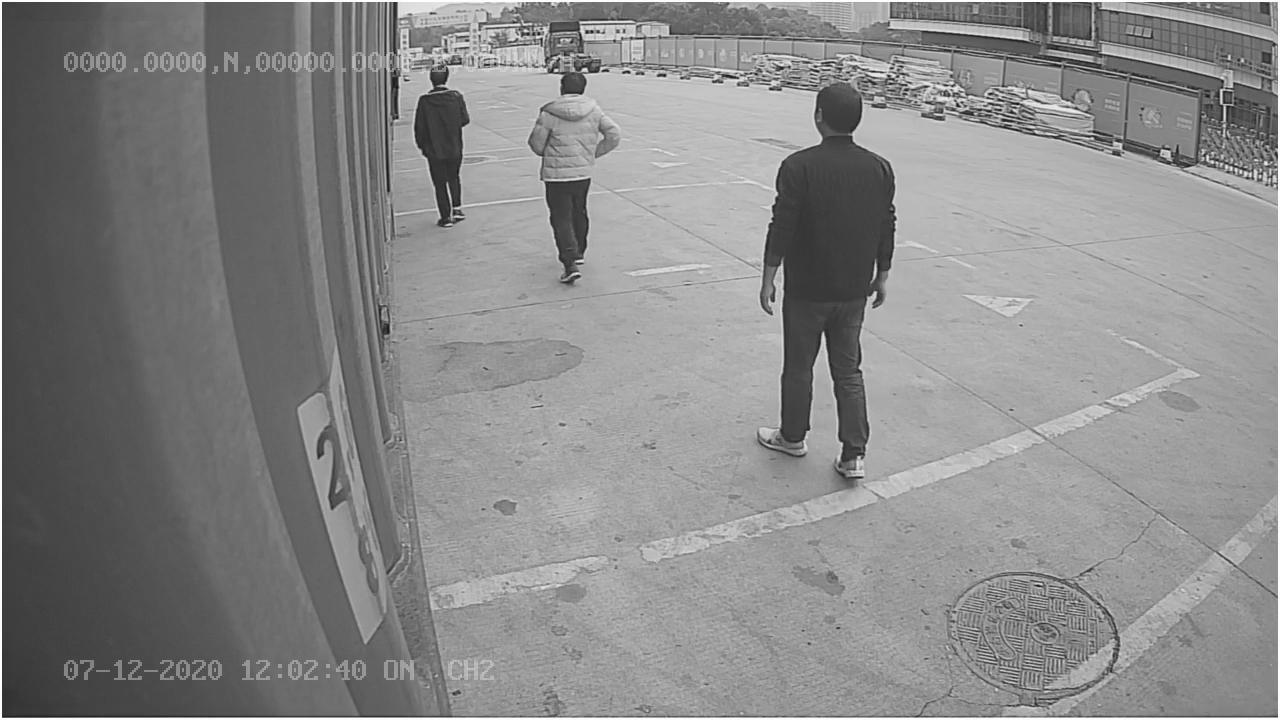person: (752, 75, 897, 487), (528, 73, 624, 285)
